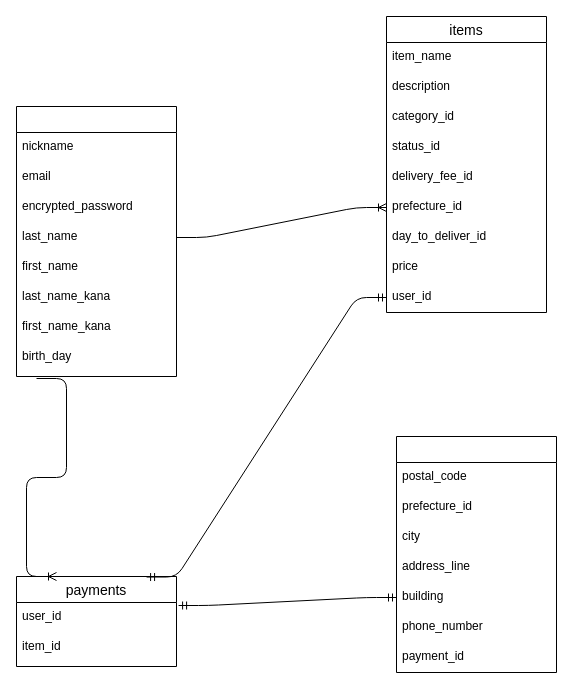
This 573x689 diagram has some shape labels left out. The shapes that lost their labels are listed below. From the top down, each one's box as (x1, y1, x2, y2) in pixels, then its label:
(16, 106, 176, 376): users
(396, 436, 556, 672): addresses
